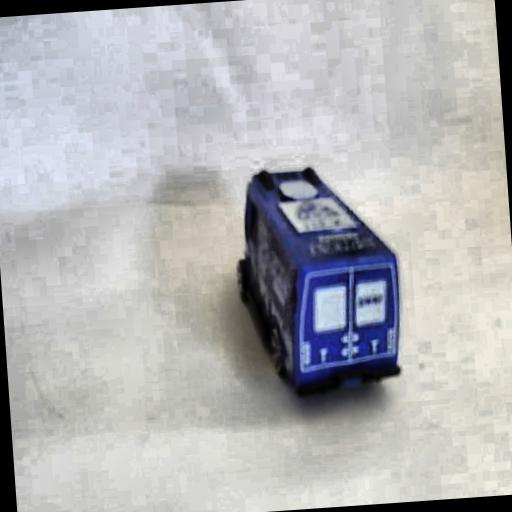police car: (233, 155, 406, 408)
